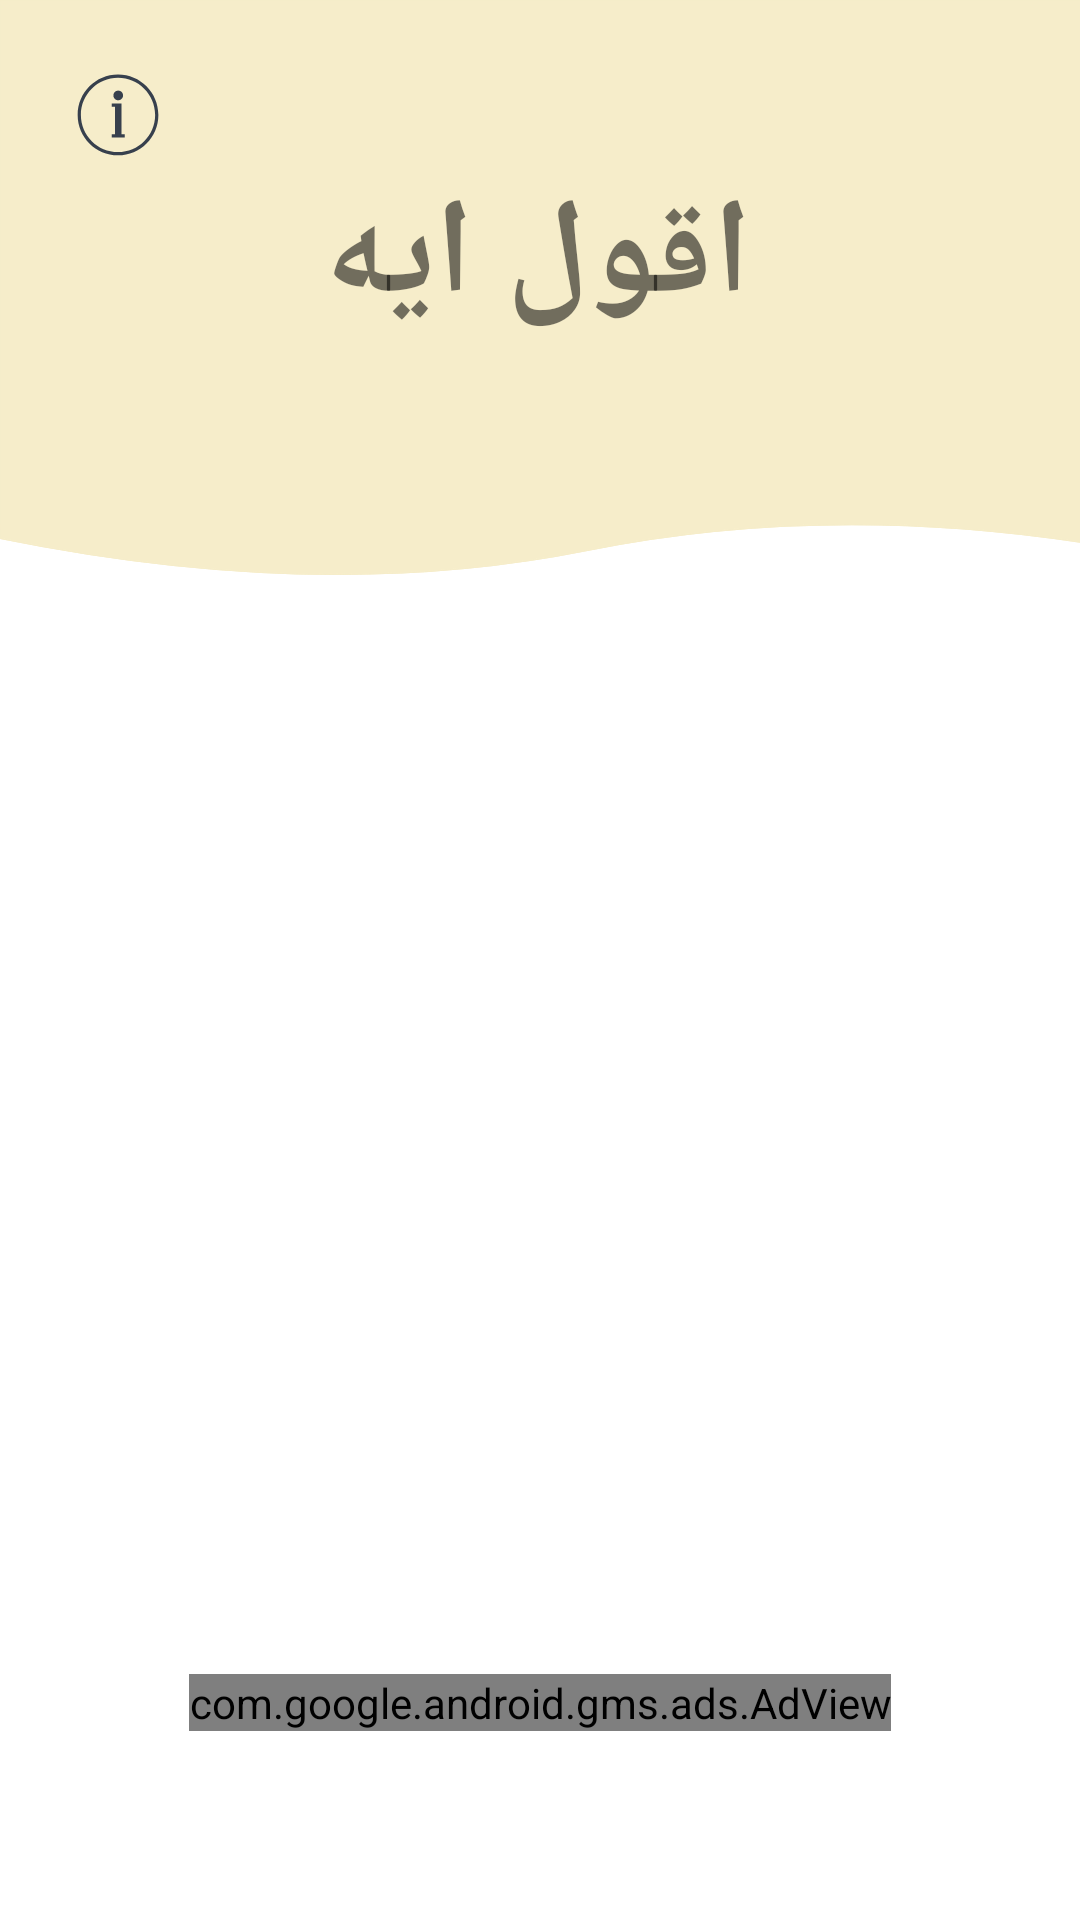

Icon click points for this 1080px×1920px phone screenshot, format [x,y]:
info: [118,115]
